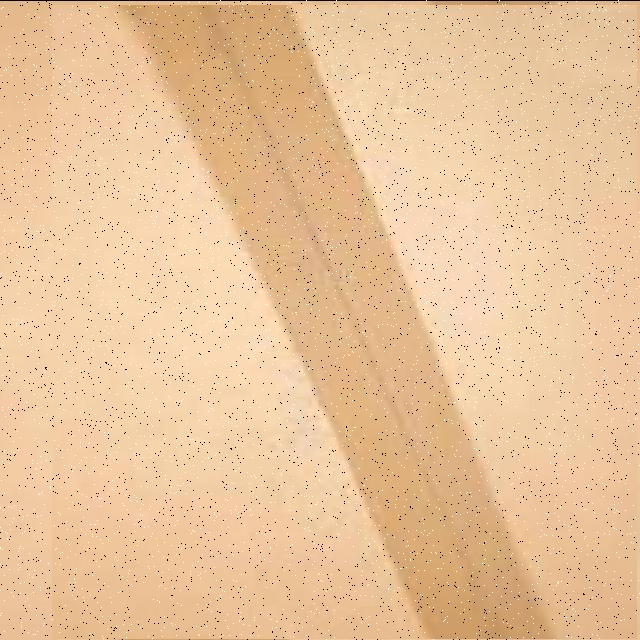normal: (52, 4, 637, 638)
